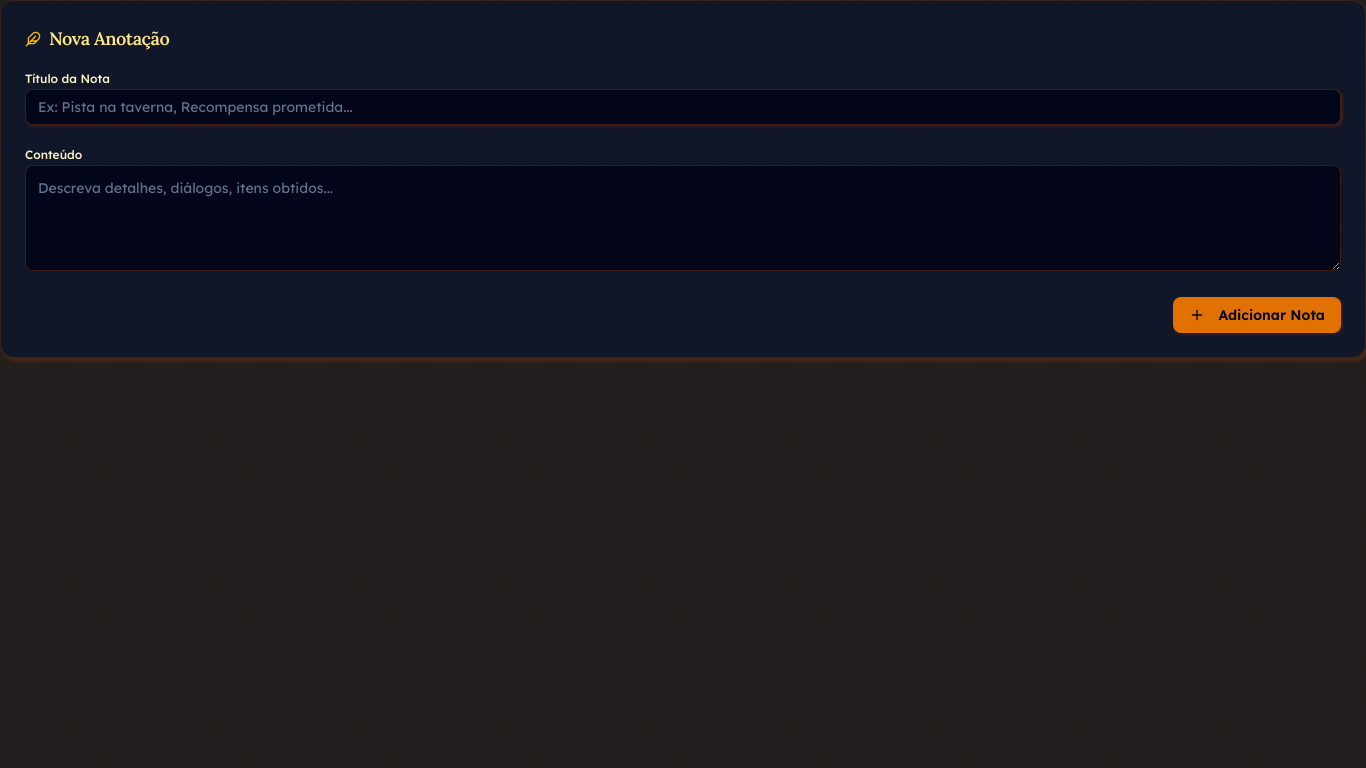
Test: Bug 2 & 3: Incremental Notes & SRD Translations › AddNoteForm Component › validates required fields and rejects empty submission
Click the button "Adicionar Nota" at (1257, 315), box [1172,297,1341,333]
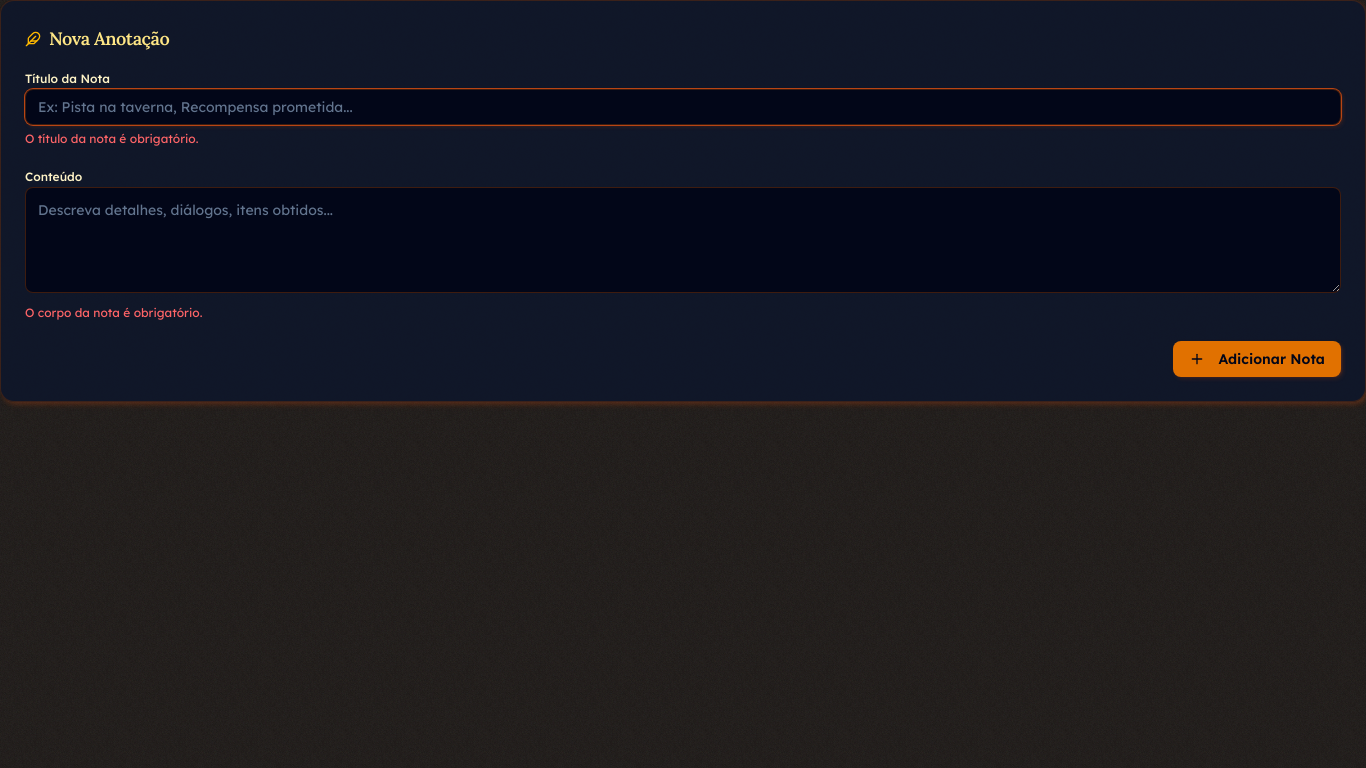
Now the text "O título da nota é obrigatório." is shown, box [25,131,198,146]
Now the text "O corpo da nota é obrigatório." is shown, box [25,305,202,320]
